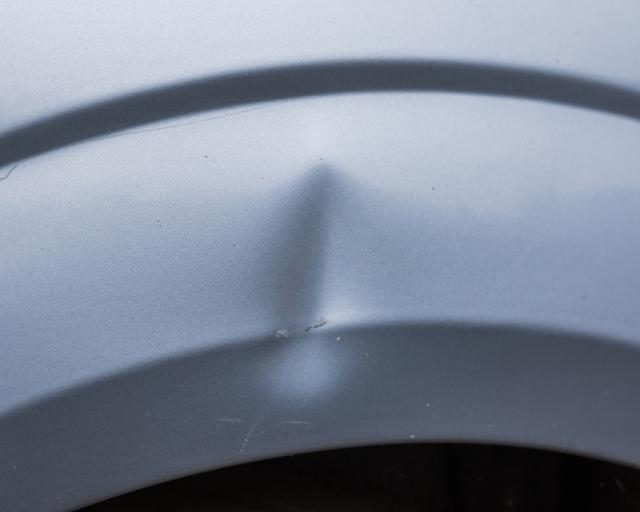dent: (253, 164, 388, 401)
